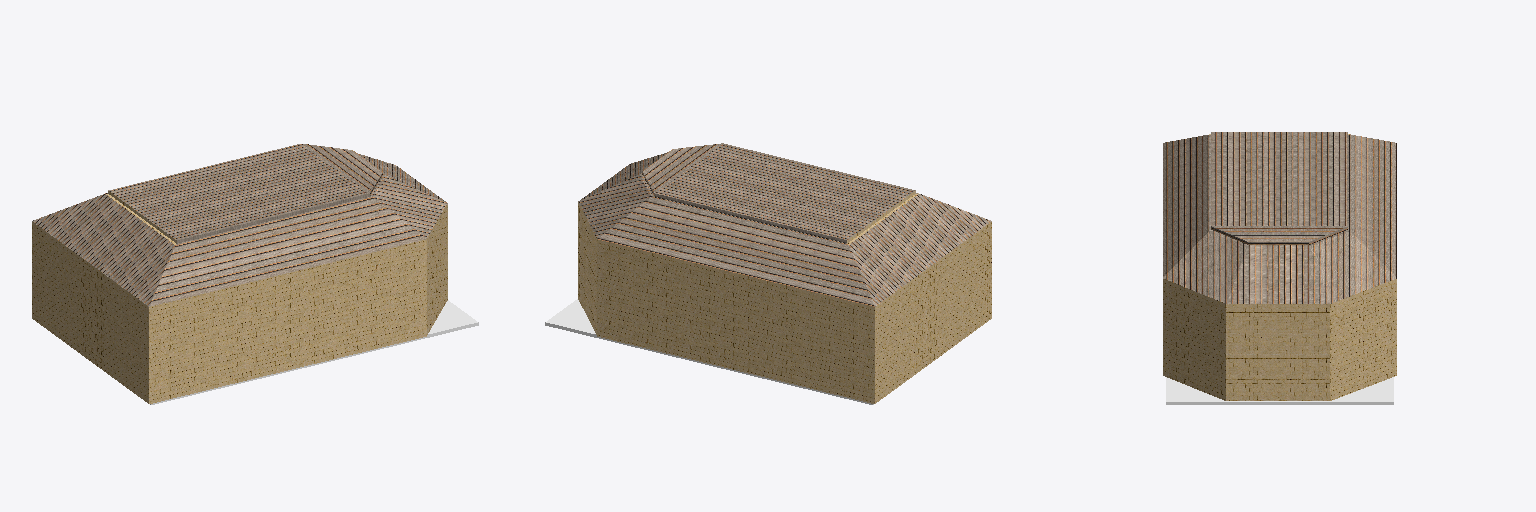
The picture shows the model from 3 angles: view 1: azimuth 30°, elevation 25°; view 2: azimuth 150°, elevation 25°; view 3: azimuth 270°, elevation 25°; orthographic projection.
Visible parts, largest first — view 1: Object.2, Object.1, Object.3; view 2: Object.2, Object.1, Object.3; view 3: Object.1, Object.2, Object.3.
Boxes of the visible parts, x1=… form: Object.2: x1=32, y1=203, x2=447, y2=403; Object.1: x1=32, y1=144, x2=446, y2=306; Object.3: x1=150, y1=300, x2=478, y2=404; Object.2: x1=578, y1=202, x2=991, y2=403; Object.1: x1=578, y1=143, x2=991, y2=306; Object.3: x1=545, y1=299, x2=873, y2=404; Object.1: x1=1163, y1=132, x2=1396, y2=303; Object.2: x1=1163, y1=279, x2=1396, y2=400; Object.3: x1=1166, y1=377, x2=1393, y2=404.
Bounding box in the file's own units: 106 × 41.83 × 65.19.
Materials: 14 (5 with a texture image).